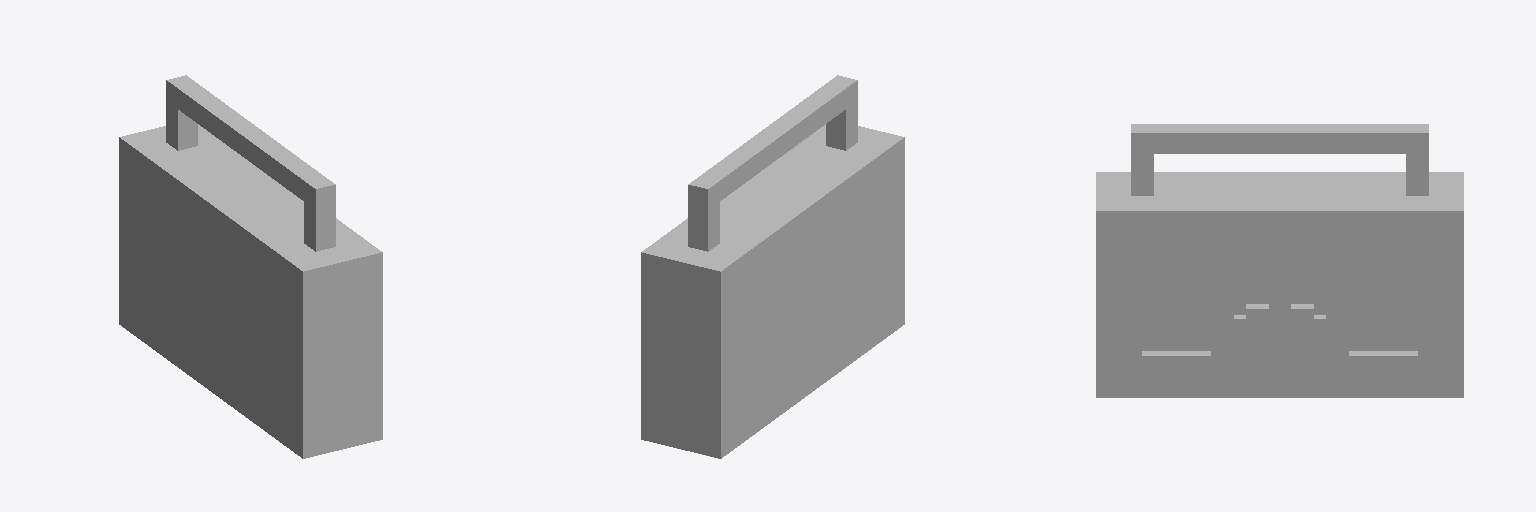
The model's file is radio.obj.
3 renders of one model, left to right at view 1: azimuth 30°, elevation 25°; view 2: azimuth 150°, elevation 25°; view 3: azimuth 270°, elevation 25°, orthographic.
Visible parts, largest first — view 1: object 1; view 2: object 1; view 3: object 1.
Boxes of the visible parts, x1=… form: object 1: x1=119, y1=75, x2=382, y2=458; object 1: x1=641, y1=75, x2=904, y2=458; object 1: x1=1096, y1=124, x2=1463, y2=397.
Size of the model in its own units: 0.9 by 2.4 by 3.2.